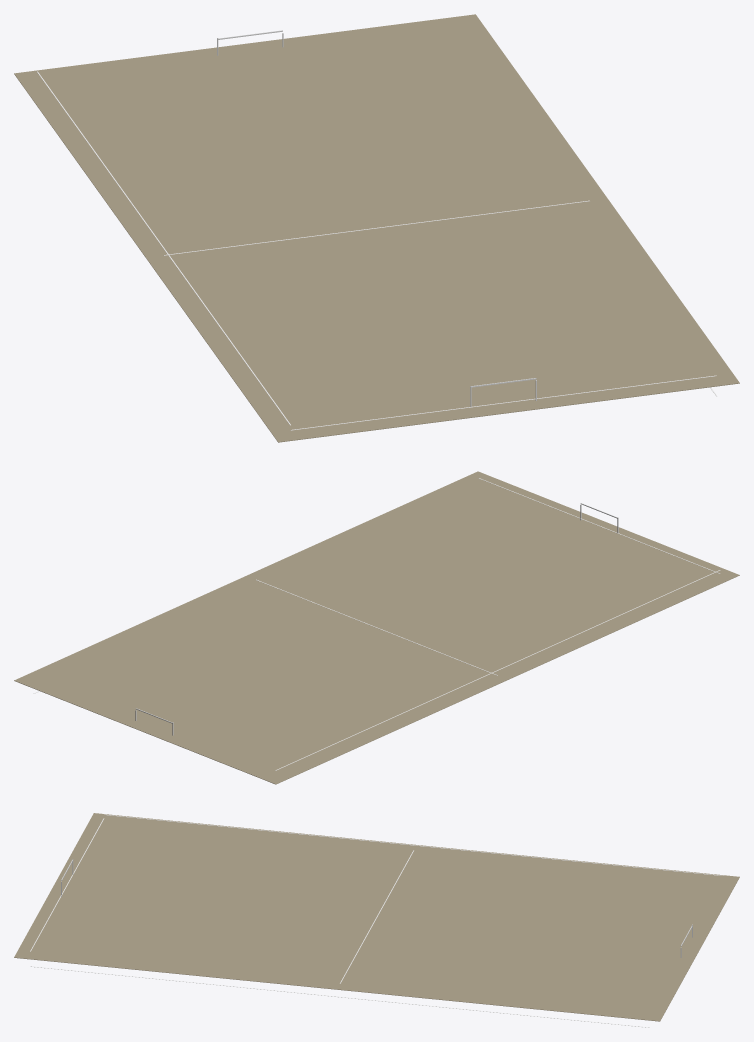
File: nd_pitch_453537943.glb
3 views of the same model, one above another, from view 1: azimuth 30°, elevation 25°; view 2: azimuth 150°, elevation 25°; view 3: azimuth 270°, elevation 25° (orthographic). The views are drawn at different scales.
Visible parts, largest first — view 1: nd_pitch_453537943_lod0; view 2: nd_pitch_453537943_lod0; view 3: nd_pitch_453537943_lod0.
Part boxes in pixels (x1,y1,x2,y2): nd_pitch_453537943_lod0: (14,14,739,442); nd_pitch_453537943_lod0: (14,471,739,784); nd_pitch_453537943_lod0: (14,813,739,1027).
Size of what is drawn, in the model's own units: 72.43 by 4.9 by 107.
